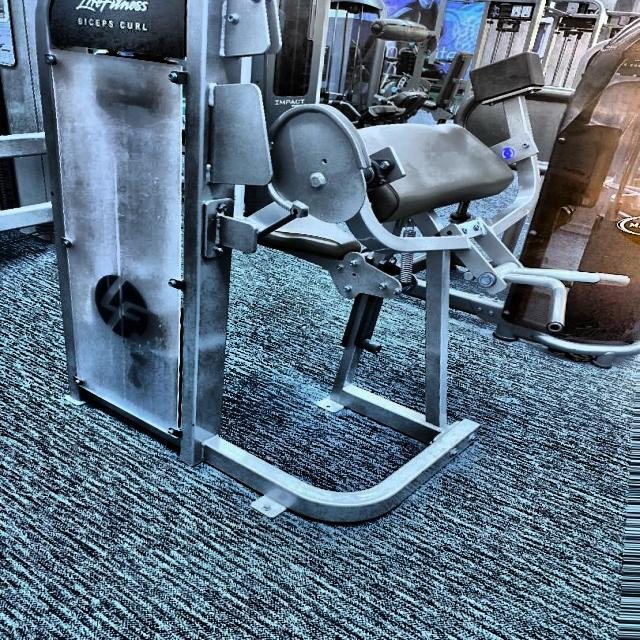bicep_curl_machine: (234, 0, 626, 541), (68, 10, 158, 44)
